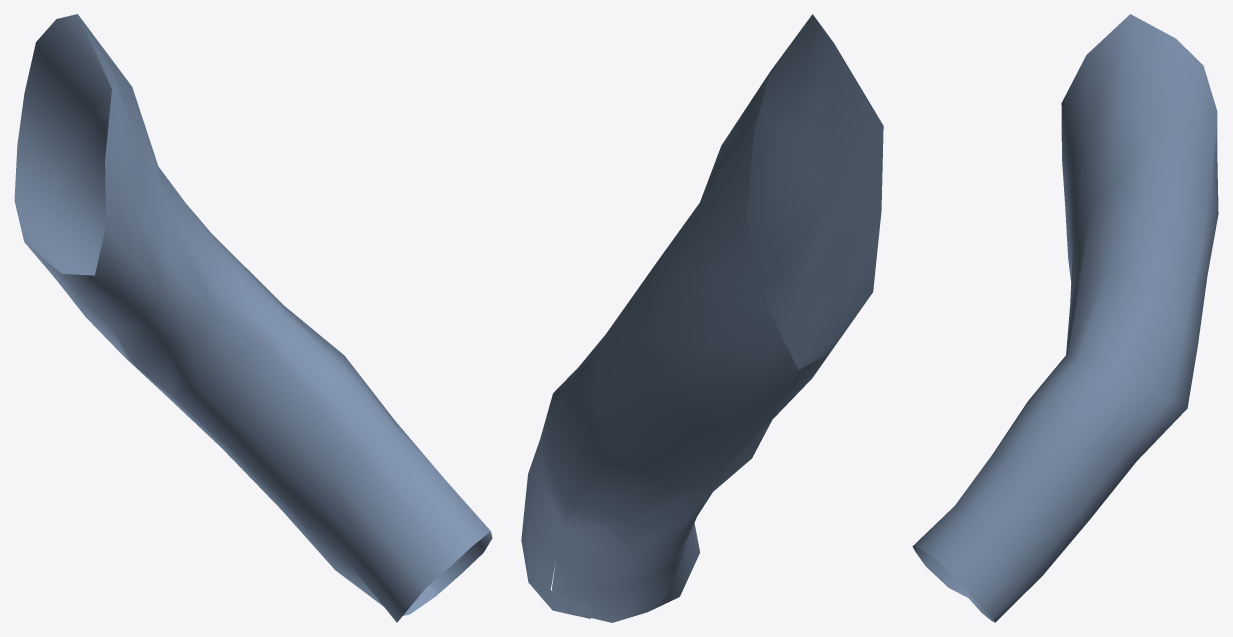
Rendered from CarlosSA_Jacket_01.fbx.
3 renders of one model, left to right at view 1: azimuth 30°, elevation 25°; view 2: azimuth 150°, elevation 25°; view 3: azimuth 270°, elevation 25°, orthographic. The views are drawn at different scales.
Visible parts, largest first — view 1: SM_CarlosSA_Jacket_StaticPart_01.001; view 2: SM_CarlosSA_Jacket_StaticPart_01.001; view 3: SM_CarlosSA_Jacket_StaticPart_01.001.
Boxes of the visible parts, x1,y1,x2,y2 form: SM_CarlosSA_Jacket_StaticPart_01.001: [14, 14, 492, 622]; SM_CarlosSA_Jacket_StaticPart_01.001: [521, 14, 883, 622]; SM_CarlosSA_Jacket_StaticPart_01.001: [912, 14, 1218, 622].
Bounding box in the file's own units: 29.14 × 49.2 × 27.35.
